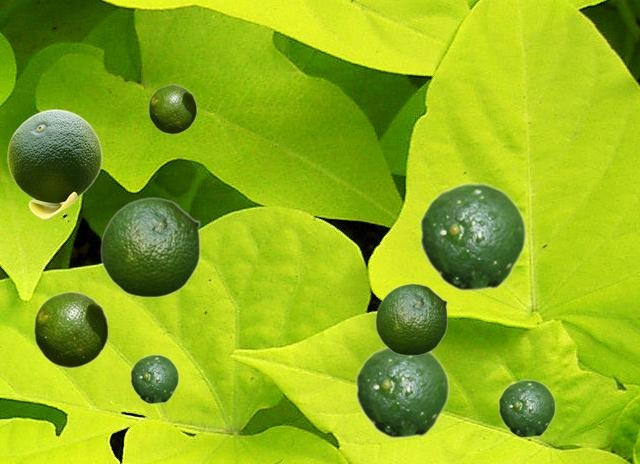calamansi: (419, 182, 526, 291), (7, 109, 101, 218), (100, 197, 200, 297), (355, 345, 449, 438), (33, 291, 108, 367), (375, 283, 447, 355), (498, 379, 555, 437), (130, 354, 178, 403), (148, 84, 196, 133)
